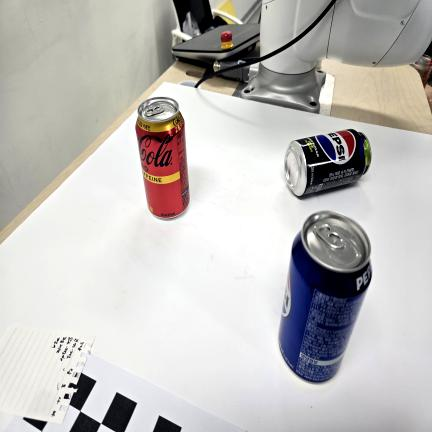can_coke_decaf: (134, 96, 192, 220)
can_pepsi: (278, 211, 374, 384)
can_pepsi_zero: (284, 129, 371, 199)
